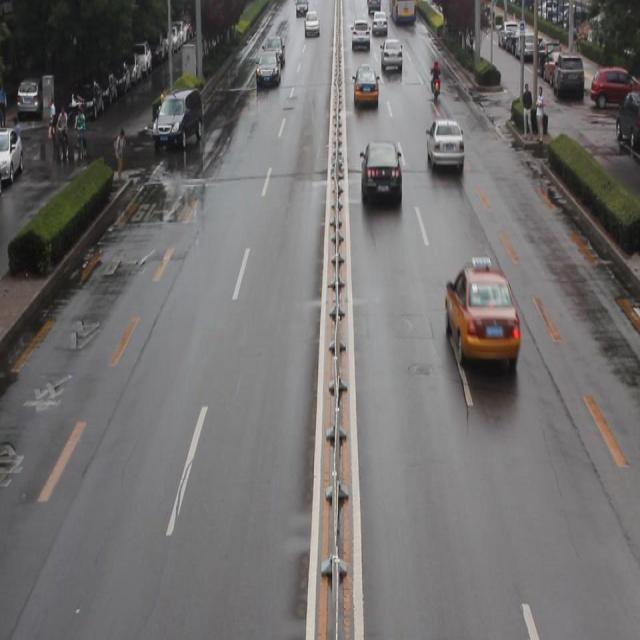car: (442, 256, 516, 372), (359, 139, 401, 212), (428, 121, 463, 176)
truck: (153, 94, 205, 148)
